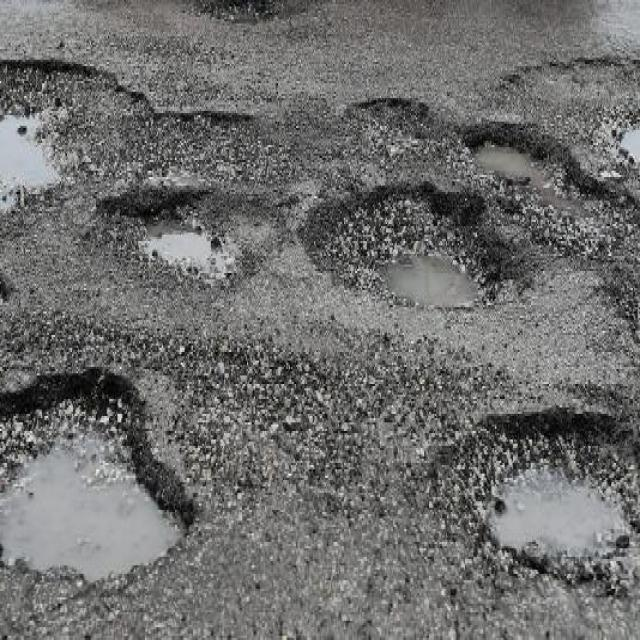buraco: (1, 360, 203, 584), (4, 364, 203, 591), (416, 396, 640, 586), (1, 55, 259, 204), (436, 404, 639, 587), (1, 55, 263, 190), (302, 177, 519, 320), (297, 174, 514, 316), (469, 115, 640, 281), (461, 120, 640, 255), (86, 183, 286, 294), (95, 195, 284, 294), (500, 52, 639, 117), (500, 51, 640, 111), (346, 92, 441, 143), (343, 100, 439, 144), (614, 115, 640, 180)
